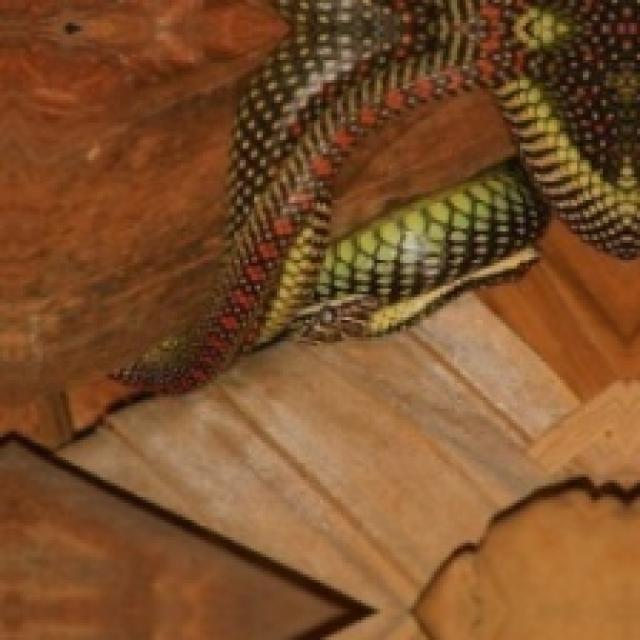paradise tree snake: (120, 0, 637, 389), (329, 86, 514, 240)
